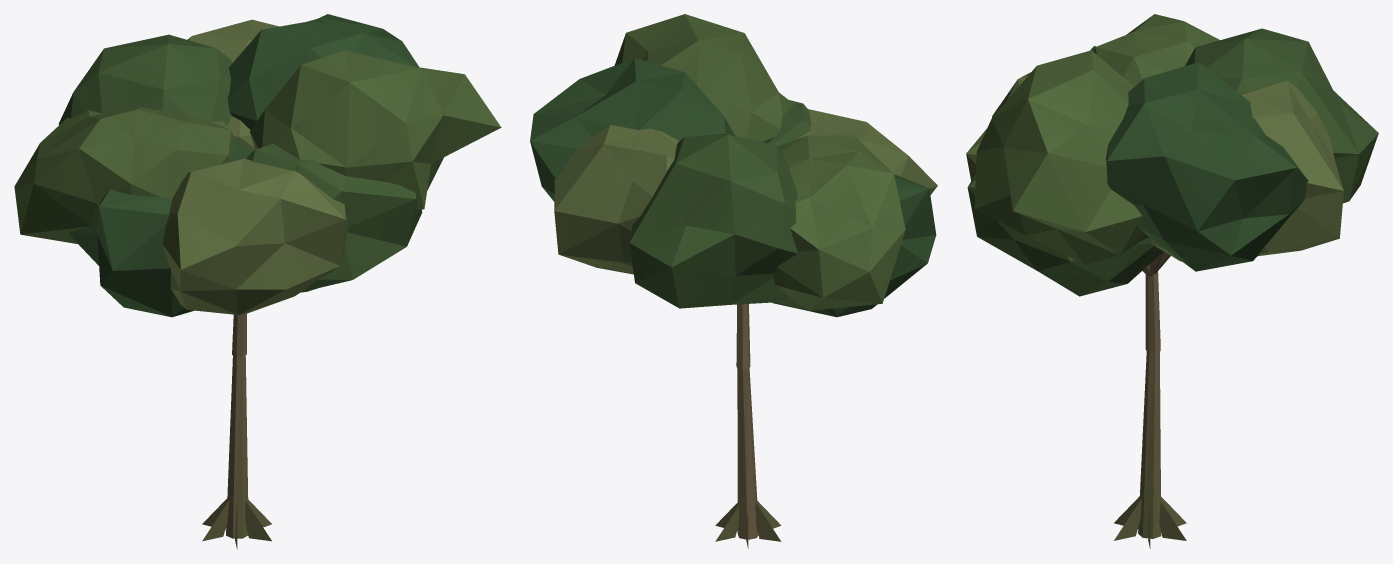
The model's file is jungle-canopy-b.glb.
3 views of the same model, side by side, from view 1: azimuth 30°, elevation 25°; view 2: azimuth 150°, elevation 25°; view 3: azimuth 270°, elevation 25° (orthographic). The views are drawn at different scales.
Parts seen in each view (by area): view 1: Широколистное дерево полога; view 2: Широколистное дерево полога; view 3: Широколистное дерево полога.
Part boxes in pixels (<box>): Широколистное дерево полога: <box>14,14,501,549</box>; Широколистное дерево полога: <box>530,14,937,548</box>; Широколистное дерево полога: <box>966,14,1378,548</box>.
Size of the model in its own units: 20.71 by 25.01 by 18.53.
